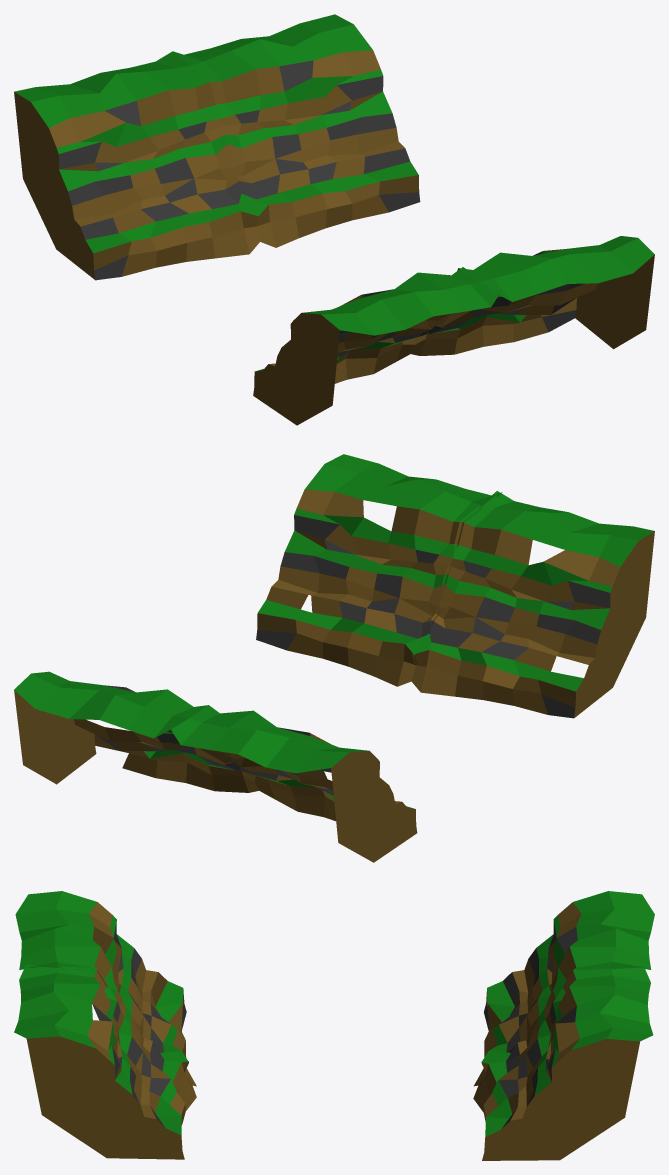
Rendered from side-3.fbx.
The picture shows the model from 3 angles, top to bottom: view 1: azimuth 30°, elevation 25°; view 2: azimuth 150°, elevation 25°; view 3: azimuth 270°, elevation 25°; orthographic projection. The views are drawn at different scales.
Parts seen in each view (by area): view 1: greenravine5.005; view 2: greenravine5.005; view 3: greenravine5.005.
Part boxes in pixels (<box>): greenravine5.005: <box>14,14,654,425</box>; greenravine5.005: <box>14,454,654,862</box>; greenravine5.005: <box>14,891,654,1160</box>.
Size of the model in its own units: 1296 by 536 by 2353.
